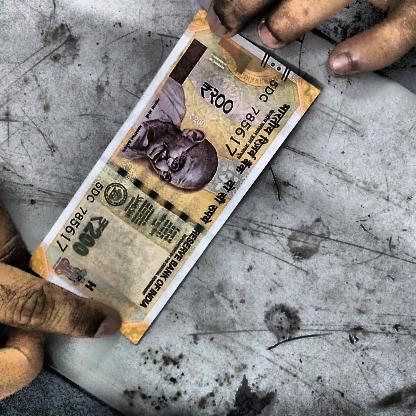Rs200: (65, 207, 115, 263)
